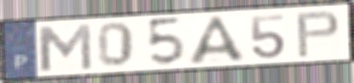0: (95, 20, 136, 70)
5: (146, 15, 189, 69), (248, 13, 287, 60)
A: (186, 14, 250, 66)
M: (34, 22, 95, 73)
P: (294, 9, 342, 60)
